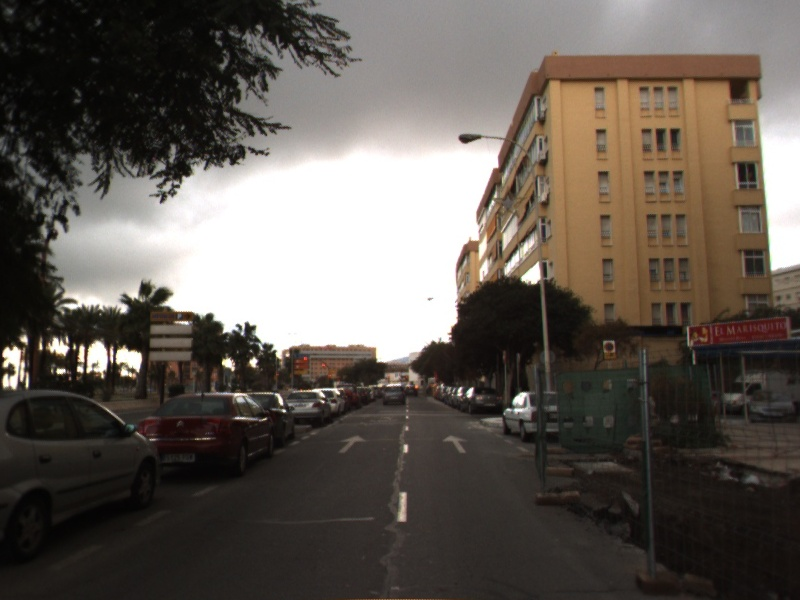STRAIGHT: (336, 434, 369, 454), (441, 433, 470, 454)
